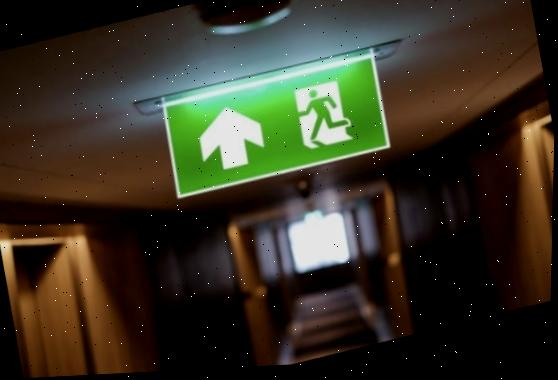emergency_exit: (149, 48, 392, 200)
